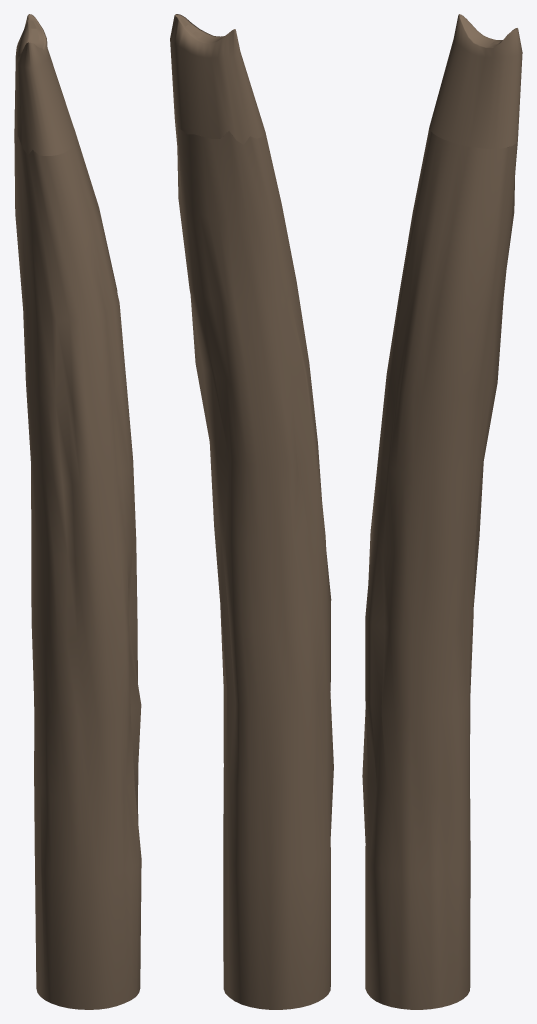
Rendered from Silent1.fbx.
The picture shows the model from 3 angles, left to right: view 1: azimuth 90°, elevation 25°; view 2: azimuth 150°, elevation 25°; view 3: azimuth 330°, elevation 25°; orthographic projection. The views are drawn at different scales.
Parts seen in each view (by area): view 1: Cylinder.001; view 2: Cylinder.001; view 3: Cylinder.001.
Part boxes in pixels (x1=…): Cylinder.001: x1=14, y1=14, x2=141, y2=1009; Cylinder.001: x1=170, y1=14, x2=333, y2=1009; Cylinder.001: x1=362, y1=14, x2=522, y2=1009.
Size of the model in its own units: 270 by 2008 by 246.
